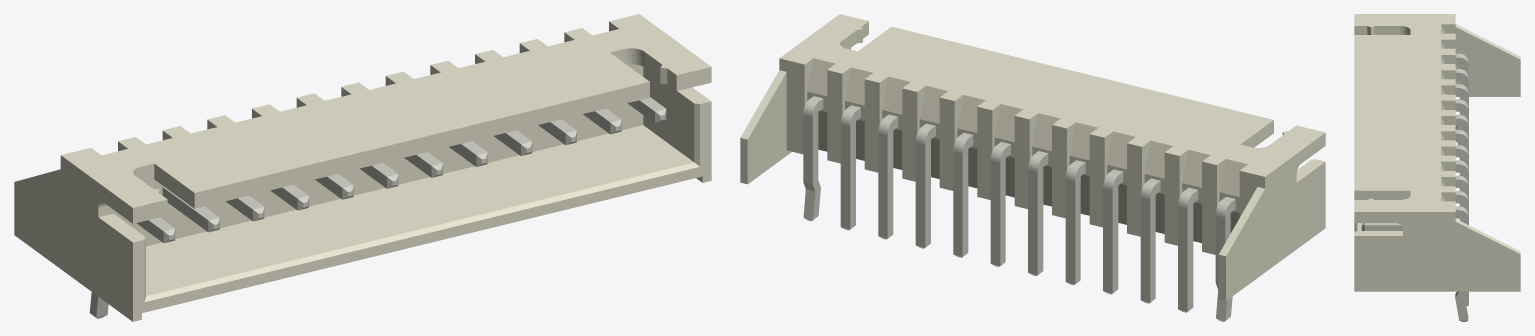
The model's file is kc-jst_xh_s12b-xh-a-1_1x12_p2.50mm_horizontal.glb.
The picture shows the model from 3 angles, left to right: view 1: azimuth 30°, elevation 25°; view 2: azimuth 150°, elevation 25°; view 3: azimuth 270°, elevation 25°; orthographic projection. The views are drawn at different scales.
Visible parts, largest first — view 1: 0.75_0.75_0.5833333333333334_0, 0.6666666666666666_0.6666666666666666_0.5833333333333334_0.8; view 2: 0.75_0.75_0.5833333333333334_0, 0.6666666666666666_0.6666666666666666_0.5833333333333334_0.8; view 3: 0.75_0.75_0.5833333333333334_0, 0.6666666666666666_0.6666666666666666_0.5833333333333334_0.8.
Part boxes in pixels (x1,y1,x2,y2): 0.75_0.75_0.5833333333333334_0: (14, 14, 711, 321); 0.6666666666666666_0.6666666666666666_0.5833333333333334_0.8: (89, 97, 666, 318); 0.75_0.75_0.5833333333333334_0: (740, 14, 1325, 300); 0.6666666666666666_0.6666666666666666_0.5833333333333334_0.8: (803, 96, 1235, 321); 0.75_0.75_0.5833333333333334_0: (1354, 14, 1520, 291); 0.6666666666666666_0.6666666666666666_0.5833333333333334_0.8: (1361, 53, 1468, 321).
Size of the model in its own units: 3.24 by 0.9499 by 1.15.
